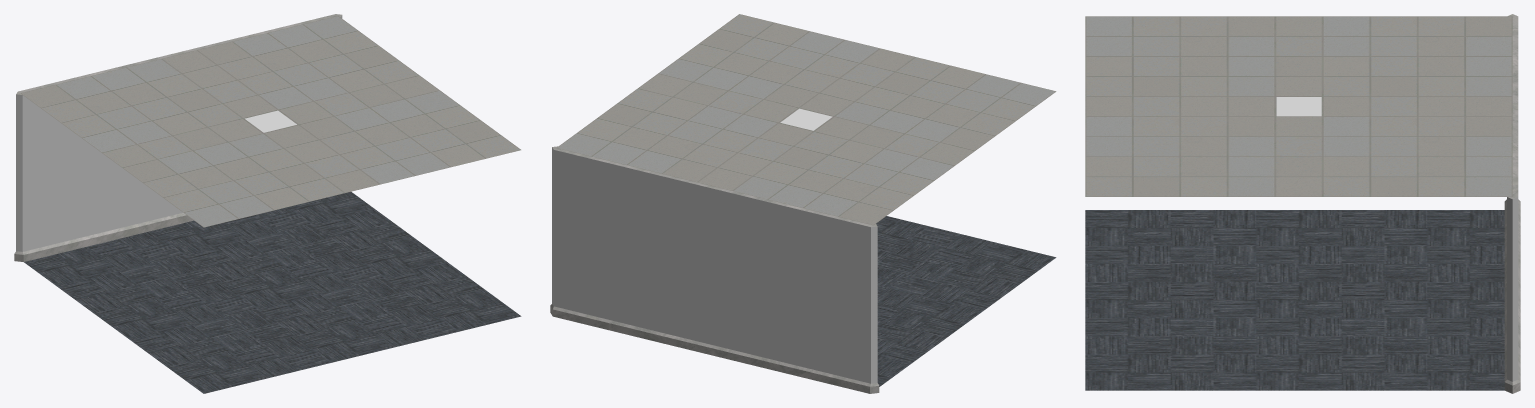
Rendered from BackroomsTile.fbx.
3 views of the same model, side by side, from view 1: azimuth 30°, elevation 25°; view 2: azimuth 150°, elevation 25°; view 3: azimuth 270°, elevation 25° (orthographic). The views are drawn at different scales.
Visible parts, largest first — view 1: Ceiling, Floor, Wall; view 2: Ceiling, Wall, Floor; view 3: Ceiling, Floor, Wall.
Part boxes in pixels (bbox=[...]): Ceiling: bbox=[21, 16, 520, 227]; Floor: bbox=[24, 192, 521, 393]; Wall: bbox=[14, 14, 342, 261]; Ceiling: bbox=[557, 14, 1056, 225]; Wall: bbox=[550, 146, 879, 393]; Floor: bbox=[876, 216, 1056, 386]; Ceiling: bbox=[1085, 16, 1512, 196]; Floor: bbox=[1085, 210, 1504, 390]; Wall: bbox=[1504, 14, 1520, 393].
Size of the model in its own units: 16.6 by 8 by 16.3.
